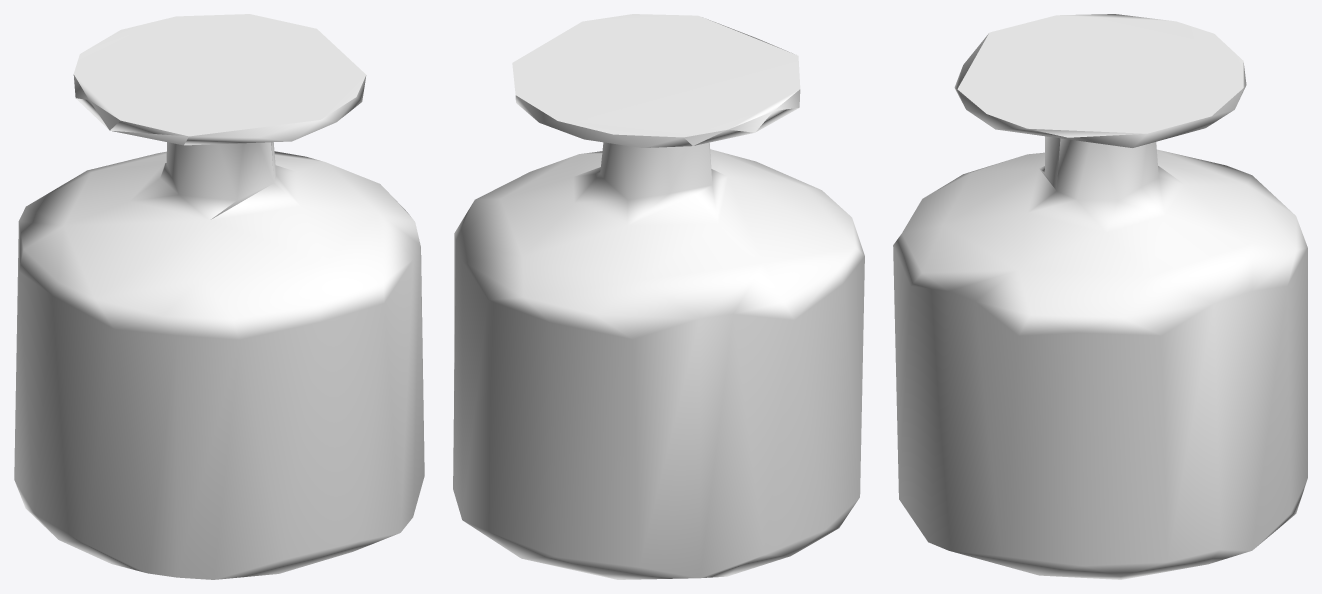
Rendered from Vase0002.obj.
3 views of the same model, side by side, from view 1: azimuth 30°, elevation 25°; view 2: azimuth 150°, elevation 25°; view 3: azimuth 270°, elevation 25° (orthographic).
Bounding box in the file's own units: 0.14 × 0.163 × 0.142.
1 material, 1 textured.
